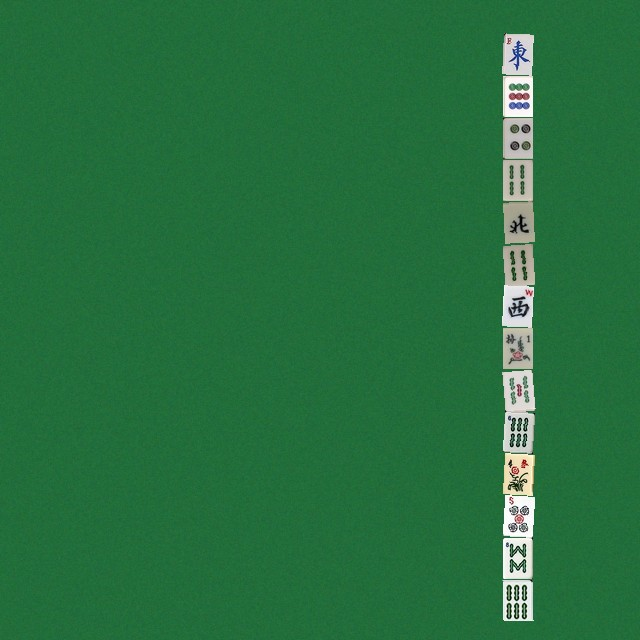tile: (502, 33, 532, 74), (502, 75, 532, 116), (502, 117, 532, 158), (502, 159, 532, 200), (502, 201, 532, 242), (502, 243, 532, 284), (502, 285, 532, 326), (502, 327, 532, 368), (502, 369, 532, 410), (502, 411, 532, 452), (502, 453, 532, 494), (502, 495, 532, 536), (502, 537, 532, 578), (502, 579, 532, 620)
